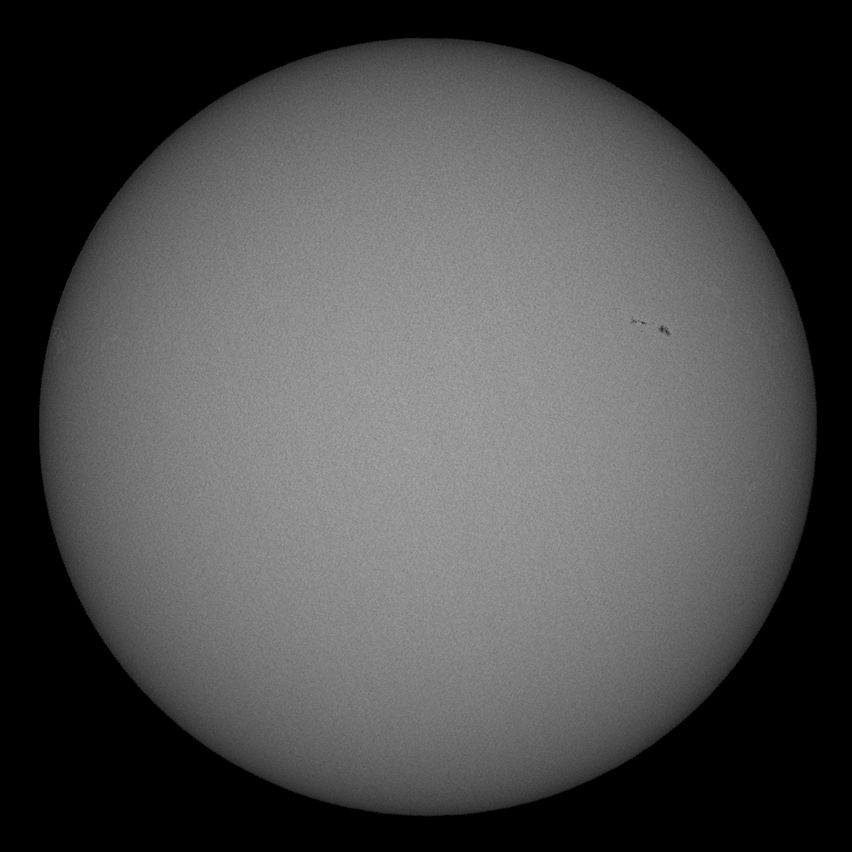sunspot: (624, 313, 677, 337)
